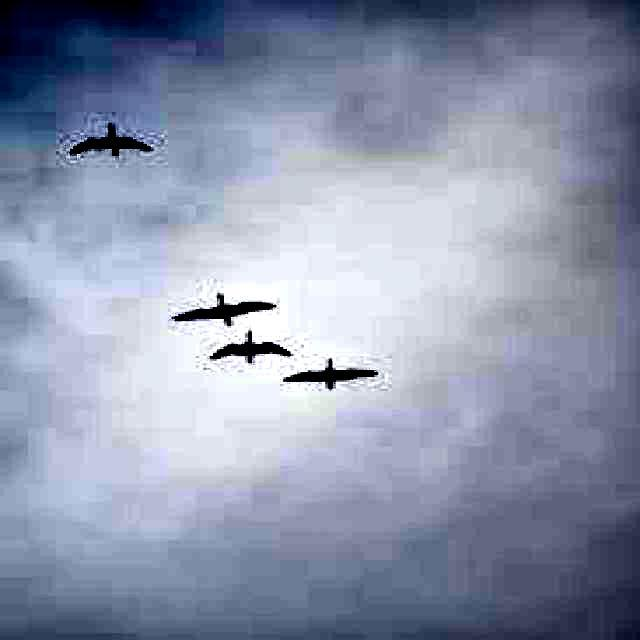bird: (198, 327, 320, 385), (40, 116, 170, 158), (161, 282, 279, 327), (283, 352, 378, 390)
